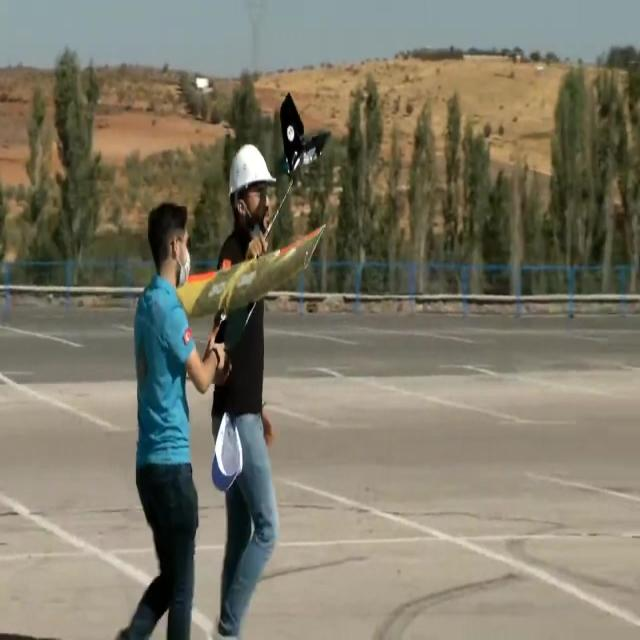iha: (175, 89, 332, 332)
